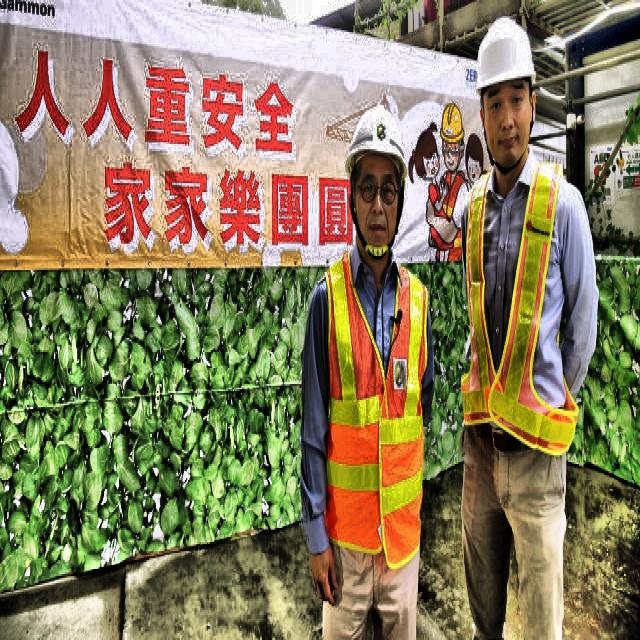safety_helmet: (471, 19, 545, 108), (348, 94, 404, 196)
safety_jacket: (456, 162, 597, 464), (311, 228, 431, 570)
